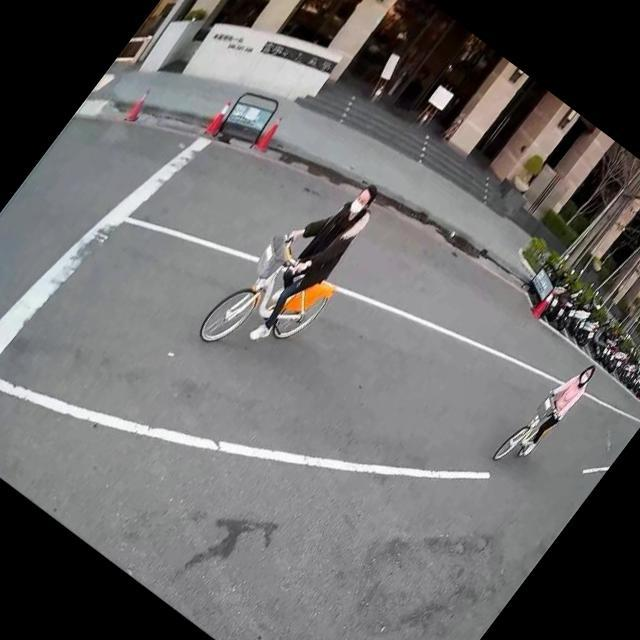person: (224, 158, 394, 356), (506, 348, 606, 463)
